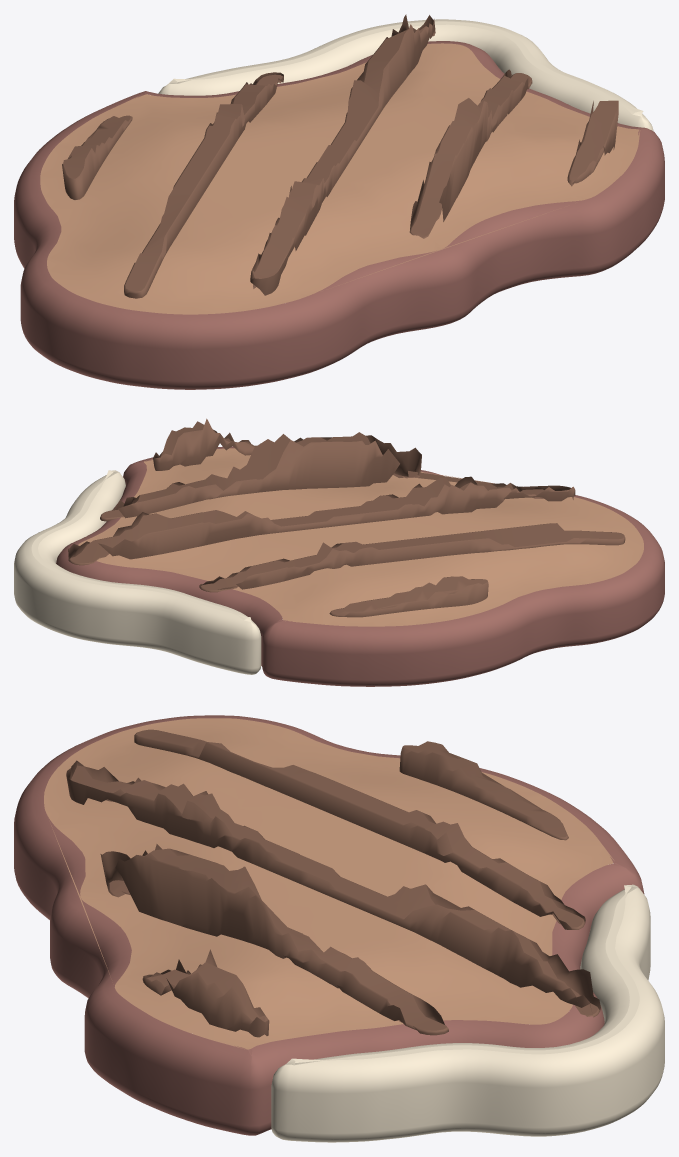
Rendered from PrimeCutRibeye.glb.
3 renders of one model, top to bottom at view 1: azimuth 30°, elevation 25°; view 2: azimuth 150°, elevation 25°; view 3: azimuth 270°, elevation 25°, orthographic. The views are drawn at different scales.
Parts seen in each view (by area): view 1: Meat, Crust, Marks, Fat; view 2: Marks, Meat, Crust, Fat; view 3: Meat, Marks, Crust, Fat.
Part boxes in pixels (x1,y1,x2,y2): Meat: (40,43,640,314); Crust: (14,41,664,389); Marks: (62,14,618,298); Fat: (158,19,653,131); Marks: (68,418,625,617); Meat: (78,448,643,626); Crust: (56,446,664,686); Fat: (14,470,261,674); Meat: (44,718,614,1049); Marks: (66,729,600,1037); Crust: (14,715,644,1135); Fat: (271,884,664,1142).
Size of the model in its own units: 14.3 by 3.04 by 10.83.
